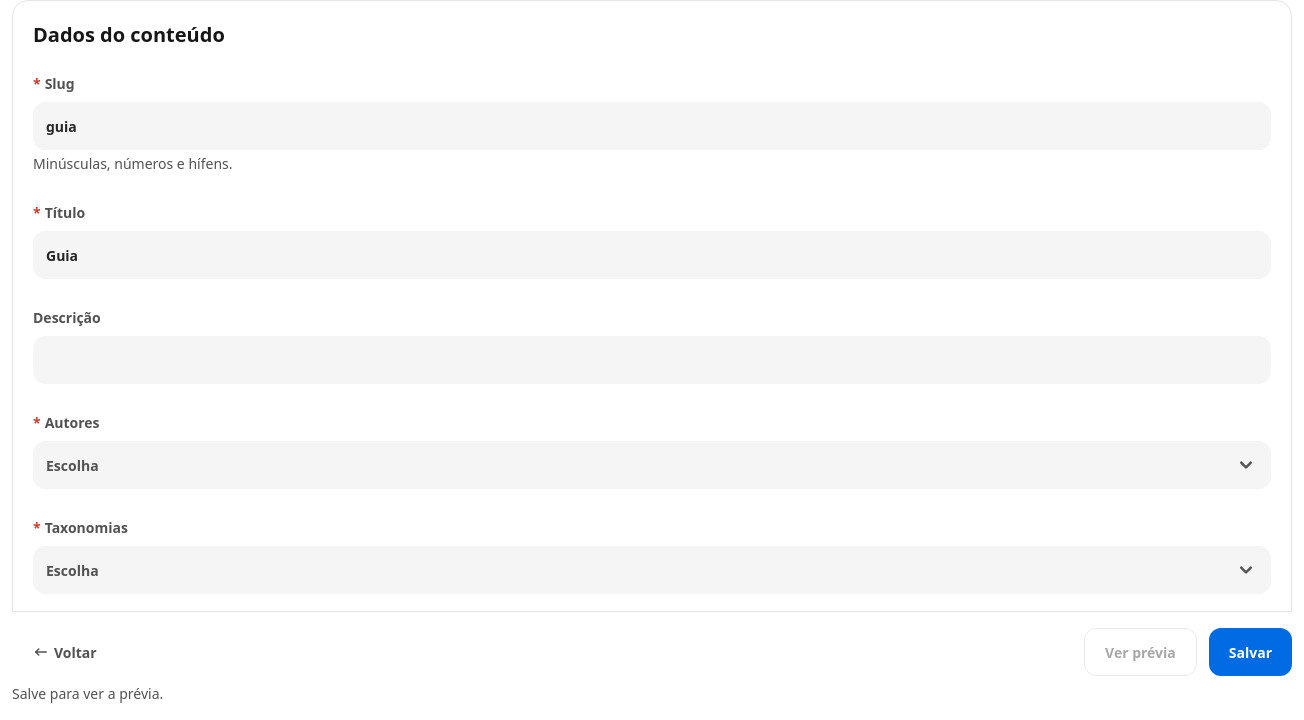
Scenario: barra de ações e continuar no editor (#109) › o resumo de validação usa o Alert do Ecme e o foco vai ao primeiro campo inválido
Clear the field labelled "* Título". click: point(652, 255)
box: 33,231 -> 1271,279
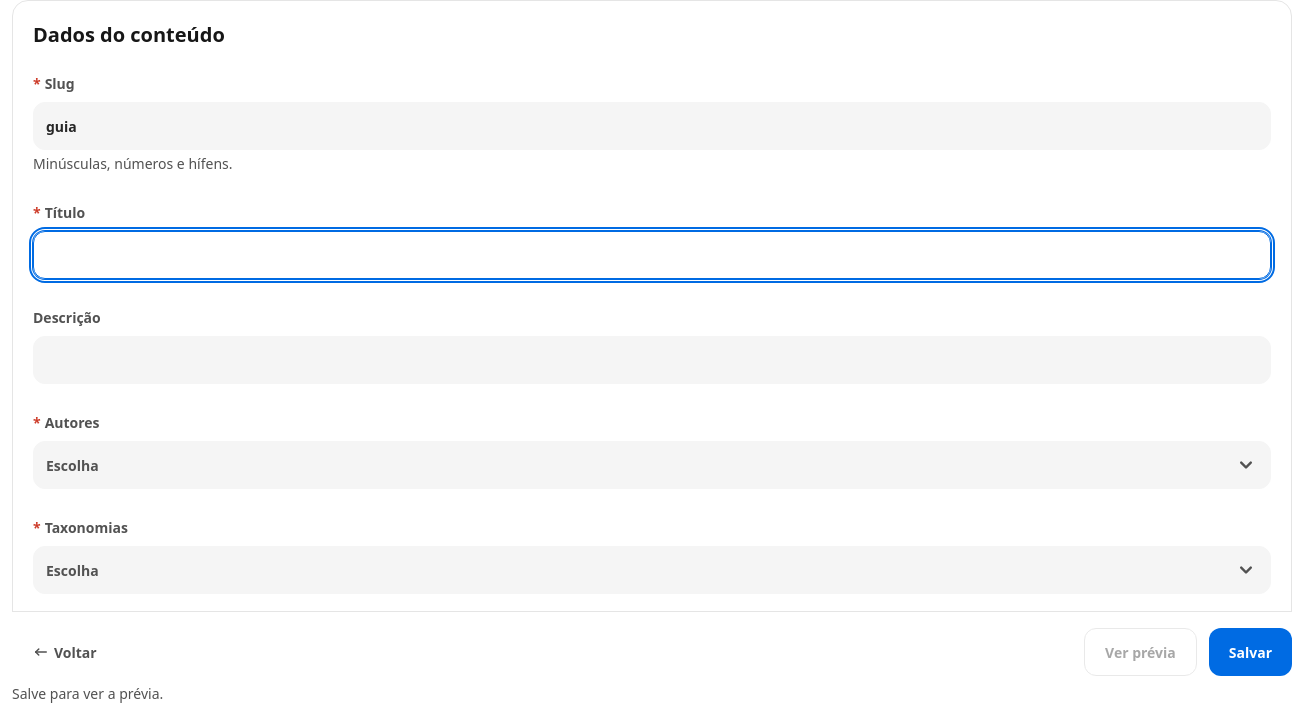
Click the button "Salvar". click: point(1250, 652)
box: 1209,628 -> 1292,676
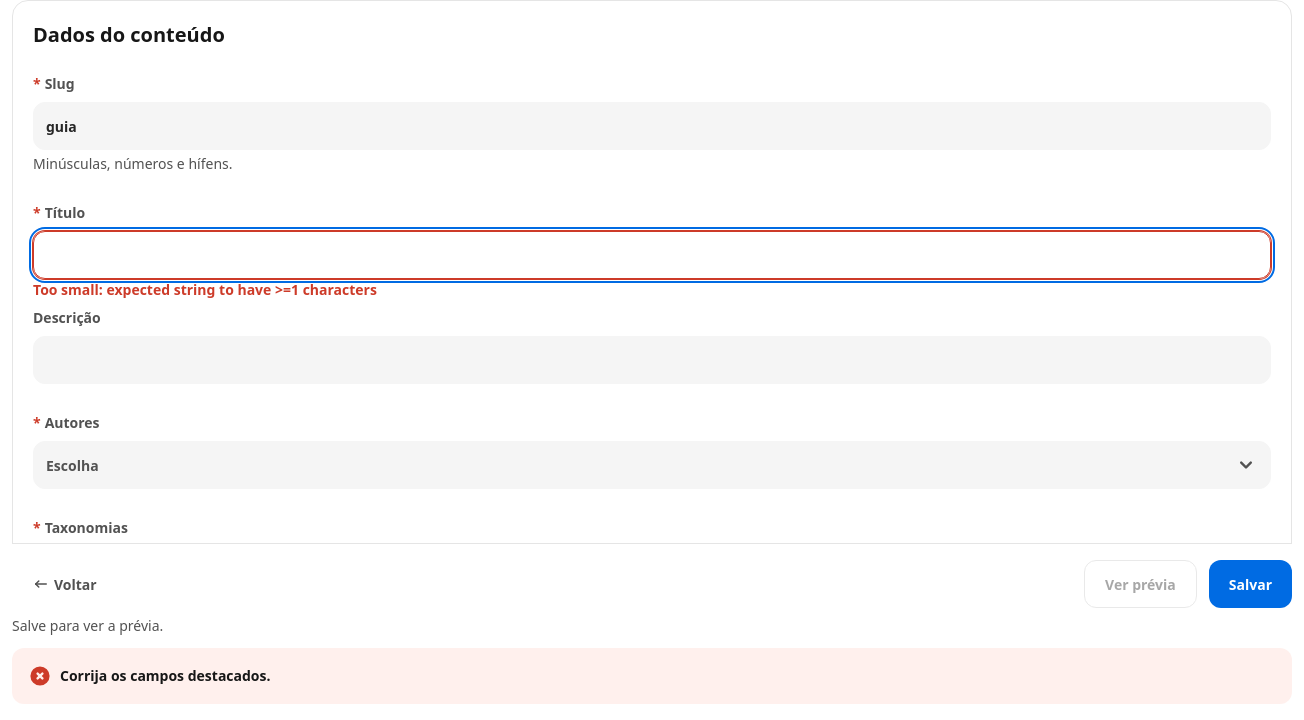
Expected: the message reads "Corrija os campos destacados.", 60,666 -> 270,685
Expected: the element with class "alert" is shown, 12,648 -> 1292,704
